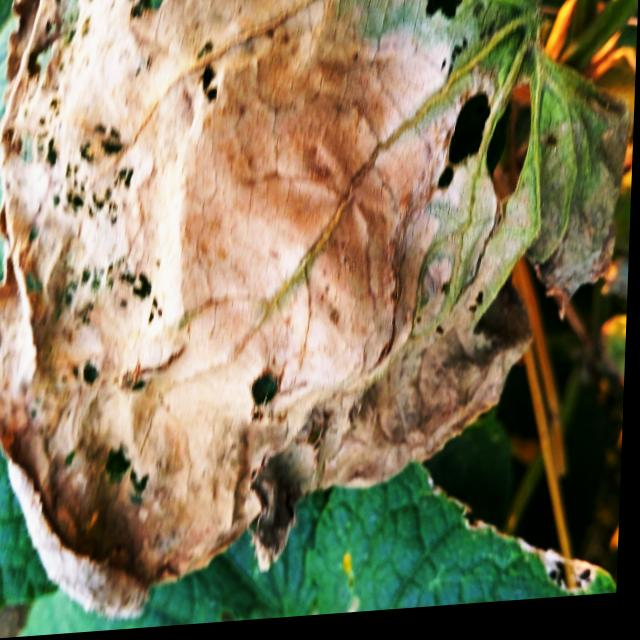Anthracnose: (431, 69, 540, 223), (98, 438, 152, 510), (242, 366, 282, 426), (421, 0, 486, 23), (196, 60, 222, 105), (79, 349, 104, 392)
